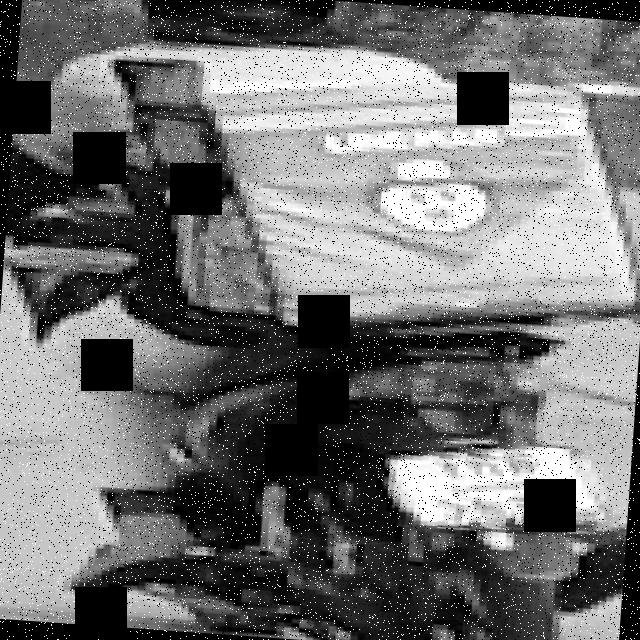letters: (466, 452, 504, 476), (479, 496, 507, 528), (447, 496, 471, 524), (543, 501, 574, 522), (514, 502, 540, 526), (438, 454, 462, 476), (512, 456, 535, 478)
license-plate: (389, 446, 600, 528)
province: (442, 474, 558, 499)
